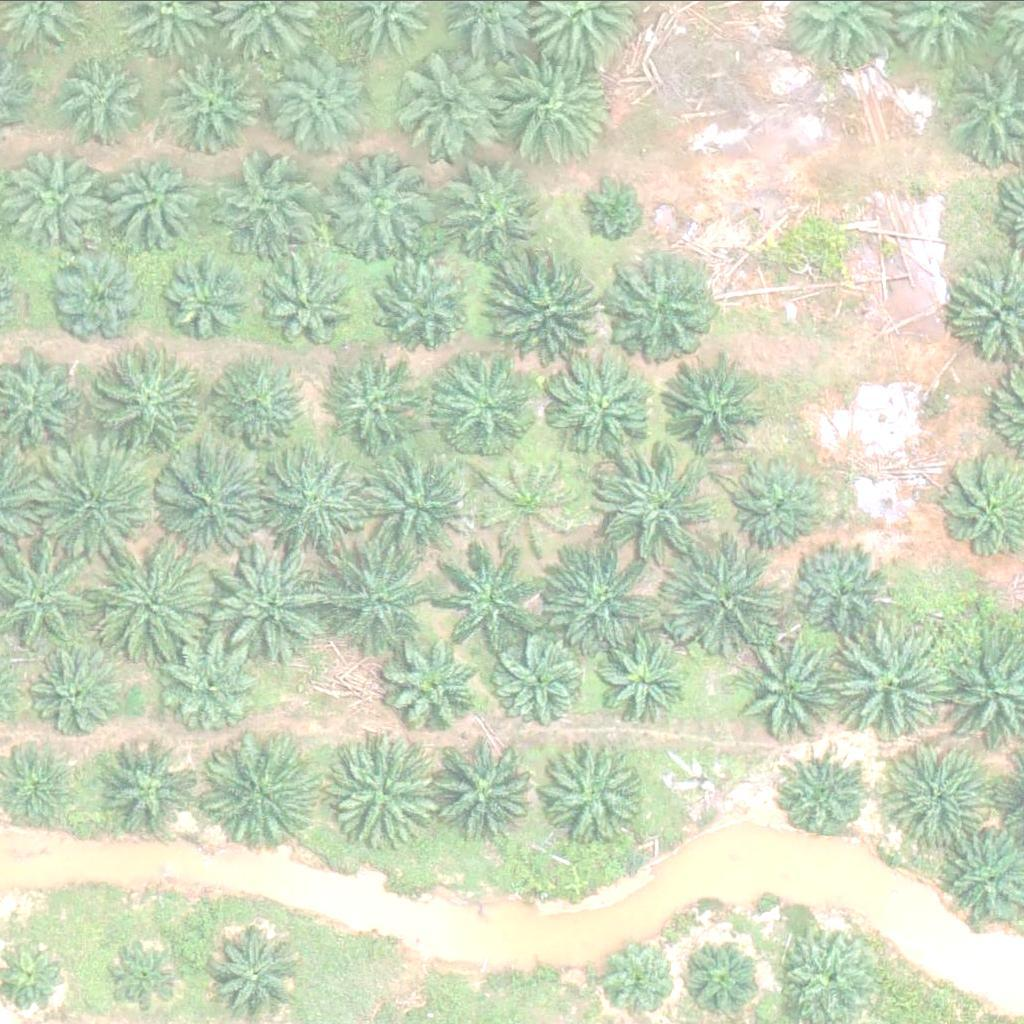Kelapa_Sawit: (669, 540, 783, 653), (882, 739, 996, 852), (200, 733, 314, 846), (265, 49, 378, 162), (384, 49, 497, 162), (498, 57, 611, 170), (325, 152, 438, 265), (494, 253, 607, 366), (543, 539, 656, 652), (217, 549, 330, 662), (324, 737, 437, 850), (38, 440, 151, 553), (98, 541, 211, 654), (158, 49, 272, 161), (544, 346, 658, 458), (255, 445, 369, 557), (368, 444, 482, 556), (433, 731, 547, 843), (152, 437, 266, 549), (208, 146, 321, 258), (610, 252, 723, 364), (599, 448, 712, 560), (430, 543, 543, 655), (315, 539, 428, 651), (723, 627, 836, 739), (837, 623, 950, 735), (103, 343, 216, 455), (444, 156, 545, 256), (376, 259, 477, 359), (472, 450, 573, 550), (790, 543, 891, 643), (490, 633, 591, 733), (586, 629, 687, 729), (542, 740, 643, 840), (59, 46, 160, 146), (51, 246, 152, 346), (97, 738, 198, 838), (663, 357, 763, 457), (334, 353, 434, 453), (435, 360, 535, 460), (736, 454, 836, 554), (383, 636, 483, 736), (106, 150, 206, 250), (160, 633, 260, 733), (19, 637, 119, 737), (100, 928, 189, 1016), (263, 260, 351, 348), (217, 363, 305, 451), (160, 257, 248, 345), (776, 752, 864, 839), (678, 933, 766, 1020), (605, 942, 681, 1017), (573, 171, 648, 246)
